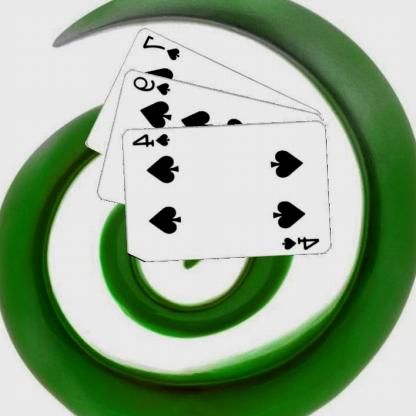4S: (131, 131, 172, 148), (281, 234, 322, 251)
7S: (142, 32, 182, 62)
9S: (132, 74, 173, 96)
